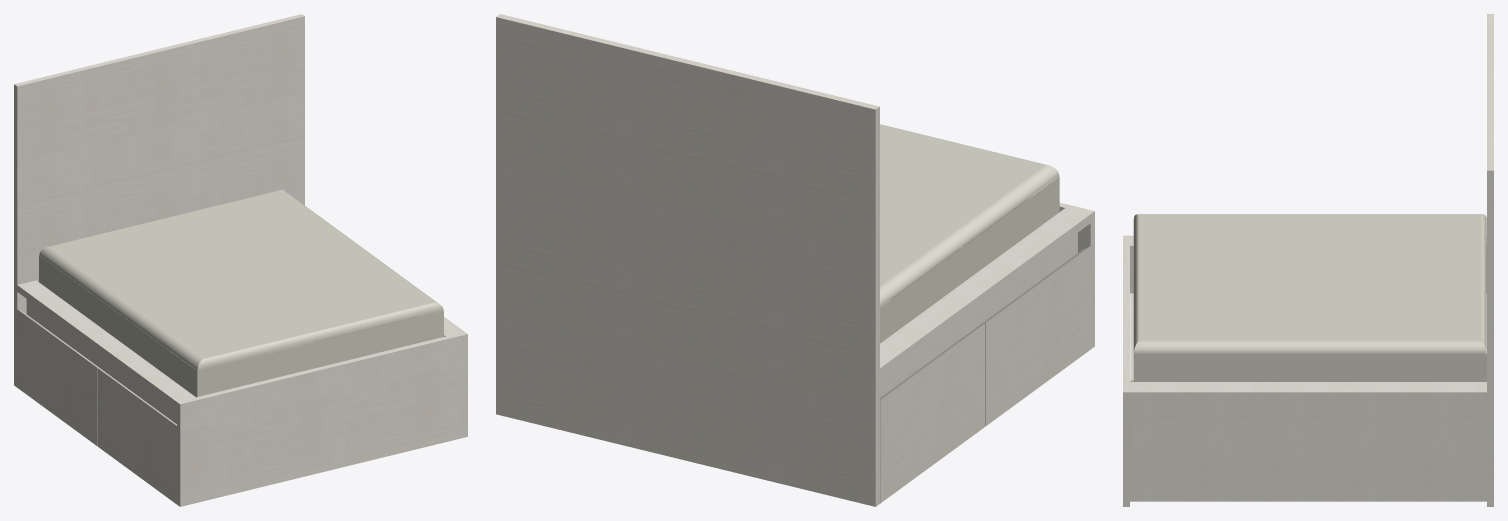
The model's file is sh-contrib-child-bed.glb.
3 renders of one model, left to right at view 1: azimuth 30°, elevation 25°; view 2: azimuth 150°, elevation 25°; view 3: azimuth 270°, elevation 25°, orthographic. The views are drawn at different scales.
Visible parts, largest first — view 1: Mesh9_Komponente_3_1_Model, Mesh6_Group2_Model; view 2: Mesh9_Komponente_3_1_Model, Mesh6_Group2_Model; view 3: Mesh6_Group2_Model, Mesh9_Komponente_3_1_Model.
Boxes of the visible parts, x1=… form: Mesh9_Komponente_3_1_Model: x1=14, y1=14, x2=467, y2=506; Mesh6_Group2_Model: x1=39, y1=189, x2=443, y2=397; Mesh9_Komponente_3_1_Model: x1=496, y1=14, x2=1094, y2=506; Mesh6_Group2_Model: x1=880, y1=124, x2=1059, y2=343; Mesh6_Group2_Model: x1=1133, y1=214, x2=1486, y2=381; Mesh9_Komponente_3_1_Model: x1=1123, y1=14, x2=1493, y2=506.
Size of the model in its own units: 1 by 1 by 1.
2 materials, 1 textured.
